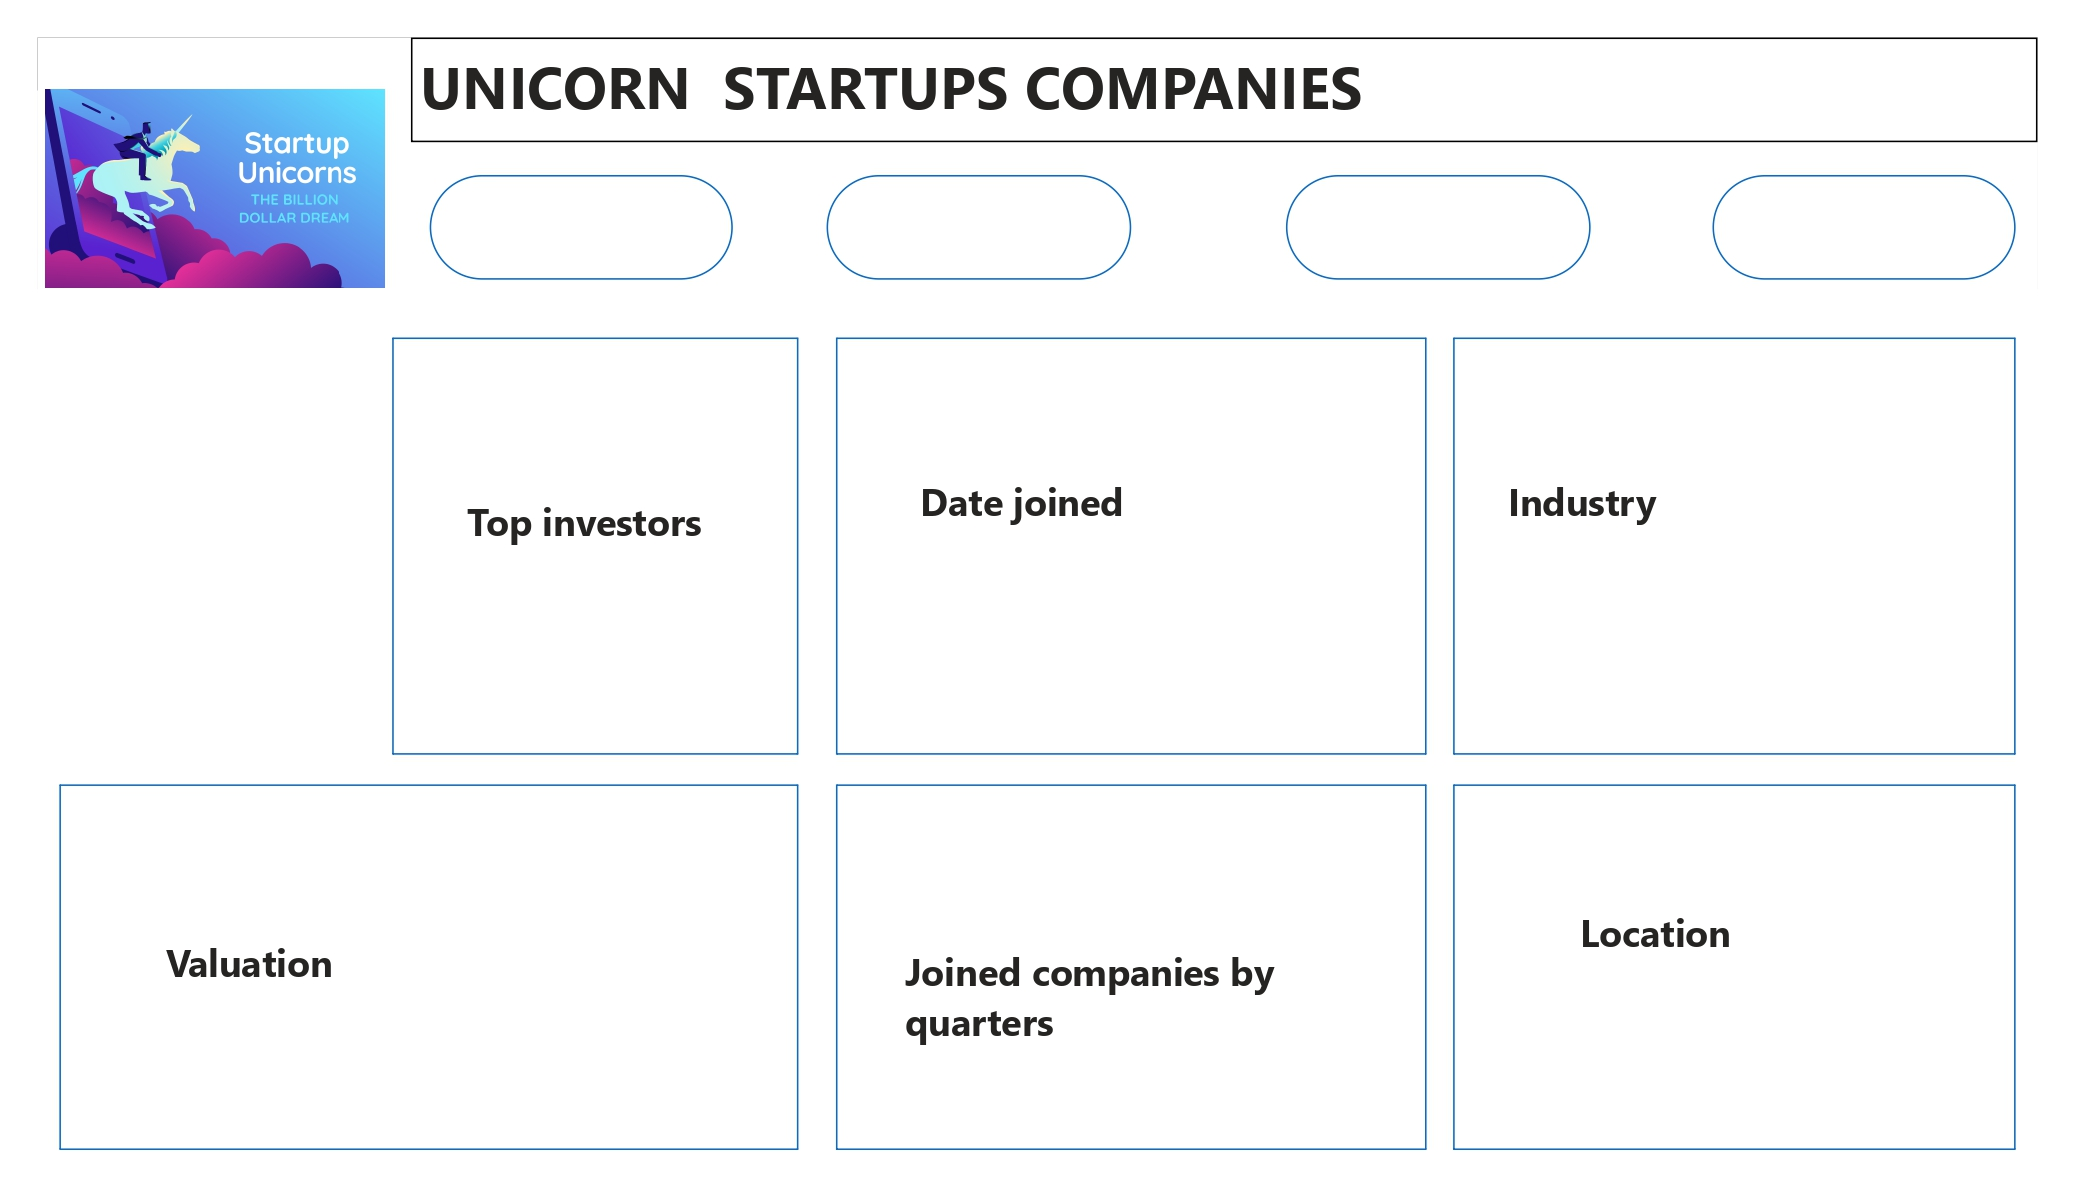

Layout of this report page (visuals, bound fields, positions):
{"tool":"powerbi","page":{"name":"Dashboard layout","canvas":[1280,720],"ordinal":6},"visuals":[{"type":"shape","box":[505.5,88.2,194.5,67.3],"z":0},{"type":"shape","box":[799.1,88.2,194.5,67.3],"z":1000},{"type":"shape","box":[250.9,88.2,194.5,67.3],"z":2000},{"type":"shape","box":[1071.8,88.2,194.5,67.3],"z":3000},{"type":"shape","box":[906.4,478.2,360,233.6],"z":4000},{"type":"shape","box":[510.9,478.2,378.2,233.6],"z":5000},{"type":"shape","box":[906.4,191.8,360,267.3],"z":6000},{"type":"shape","box":[13.6,478.2,473.6,233.6],"z":7000},{"type":"textbox","box":[239.1,0,1040.9,67.3],"z":8000},{"type":"image","box":[0,0,227.3,191.8],"z":9000},{"type":"shape","box":[510.9,191.8,378.2,267.3],"z":10000},{"type":"shape","box":[227.3,191.8,260,267.3],"z":11000},{"type":"textbox","box":[77.3,570,300,80],"z":12000},{"type":"textbox","box":[560,275.5,300,99.1],"z":13000},{"type":"textbox","box":[936.4,275.5,300,118.2],"z":14000},{"type":"textbox","box":[550,541.8,300,108.2],"z":15000},{"type":"textbox","box":[270,288.2,183.6,71.8],"z":16000},{"type":"textbox","box":[981.8,550.9,227.3,99.1],"z":17000}]}

Visuals, with their boxes in screenshot pixels (x1, y1, x2, y2):
shape: box=[827, 175, 1131, 280]
shape: box=[1286, 175, 1590, 280]
shape: box=[430, 175, 733, 280]
shape: box=[1712, 175, 2016, 280]
shape: box=[1454, 785, 2016, 1150]
shape: box=[836, 785, 1427, 1150]
shape: box=[1454, 337, 2016, 755]
shape: box=[59, 785, 799, 1150]
textbox: box=[411, 38, 2038, 143]
image: box=[38, 38, 393, 337]
shape: box=[836, 337, 1427, 755]
shape: box=[393, 337, 799, 755]
textbox: box=[158, 928, 627, 1053]
textbox: box=[912, 468, 1381, 623]
textbox: box=[1501, 468, 1969, 653]
textbox: box=[897, 884, 1366, 1053]
textbox: box=[459, 488, 746, 600]
textbox: box=[1572, 898, 1927, 1053]
